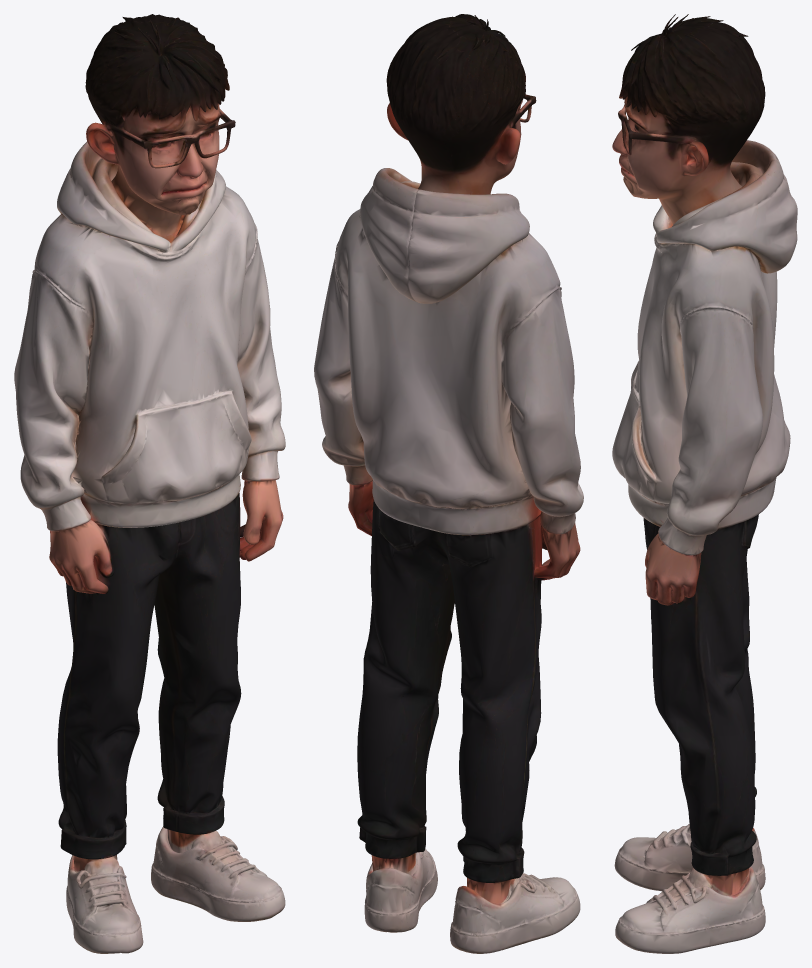
The model's file is mood-07.glb.
3 renders of one model, left to right at view 1: azimuth 30°, elevation 25°; view 2: azimuth 150°, elevation 25°; view 3: azimuth 270°, elevation 25°, orthographic.
Parts seen in each view (by area): view 1: node_0; view 2: node_0; view 3: node_0.
Boxes of the visible parts, x1,y1,x2,y2 form: node_0: (14,14,285,953); node_0: (314,14,583,953); node_0: (612,14,797,953).
Bounding box in the file's own units: 0.346 × 1.17 × 0.2214.
Materials: 1 (1 with a texture image).
